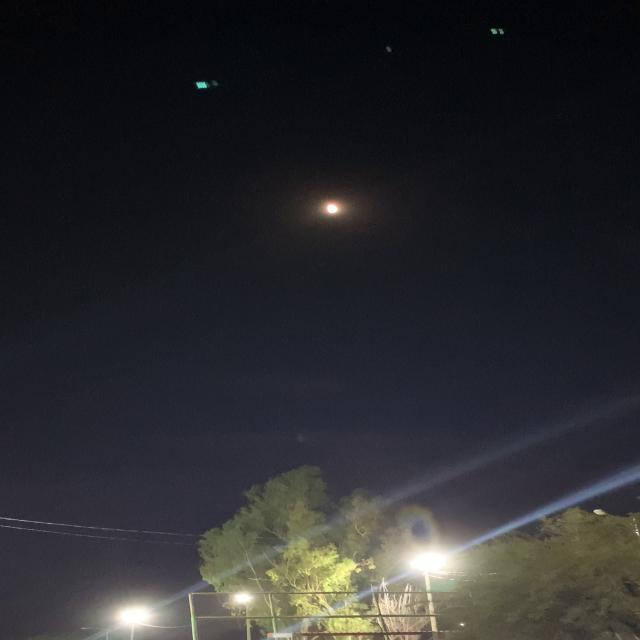moon: (308, 195, 364, 223)
